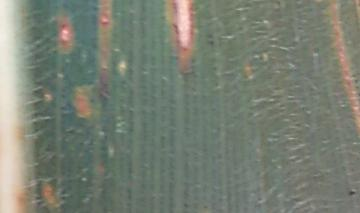tarspot: (346, 189, 358, 197)
